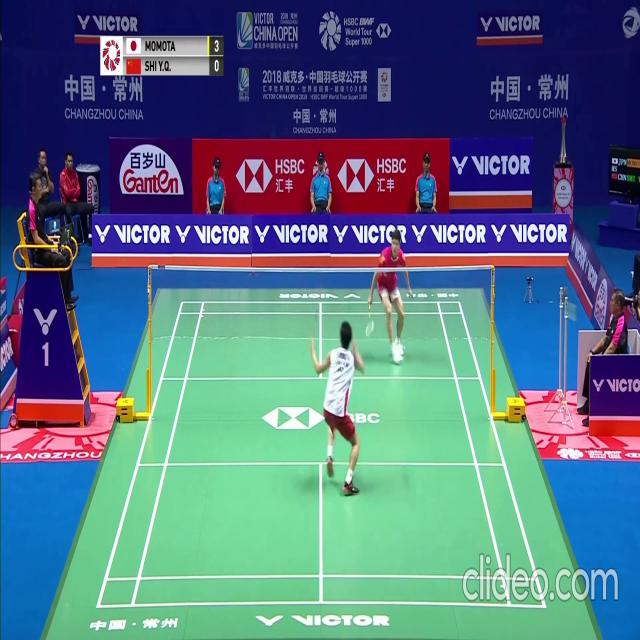Shuttlecock: (310, 233, 314, 241)
